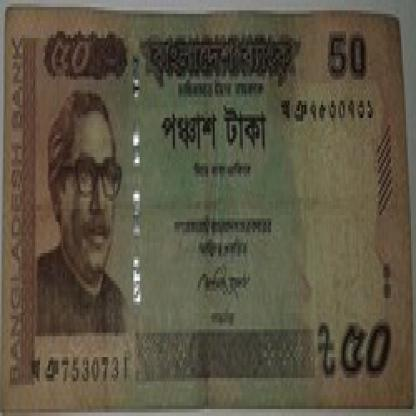Fifty taka: (314, 319, 394, 378), (45, 31, 118, 90)
